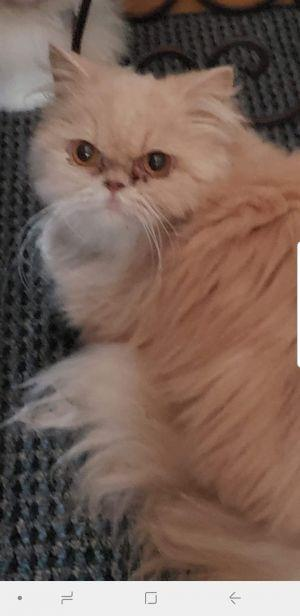persian: (21, 26, 252, 265)
